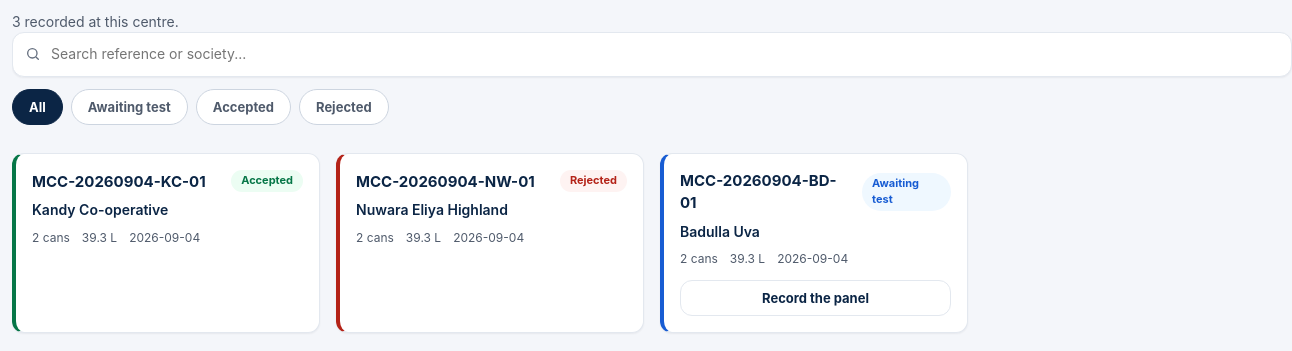
Test: reviewing deliveries › asks the service for one status rather than filtering in the browser
Expected: the text "MCC-20260904-KC-01" is shown, top-left (32, 170), bottom-right (206, 192)
Click the button "Rejected" at (344, 107), box top-left (299, 89), bottom-right (389, 125)
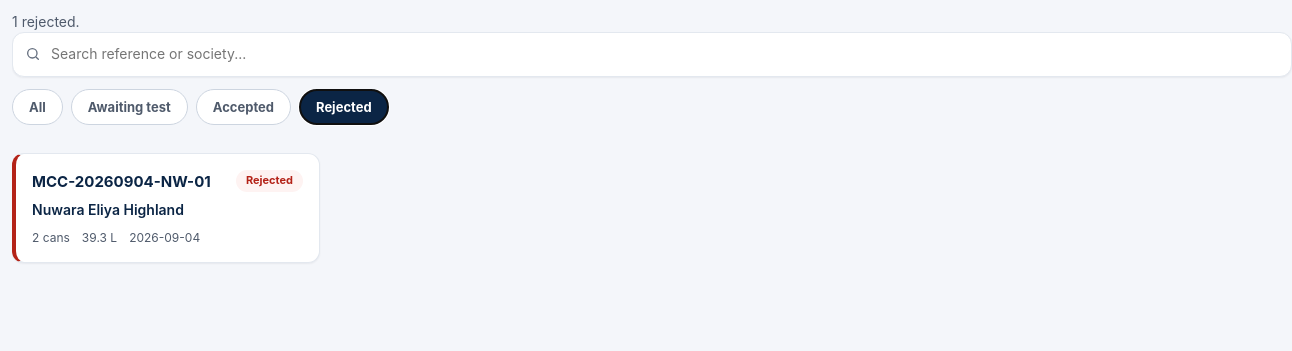
Expected: the text "MCC-20260904-NW-01" is shown, top-left (32, 170), bottom-right (211, 192)
Result: the text "MCC-20260904-KC-01" is gone
